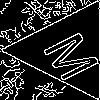M: (42, 25, 100, 84)
